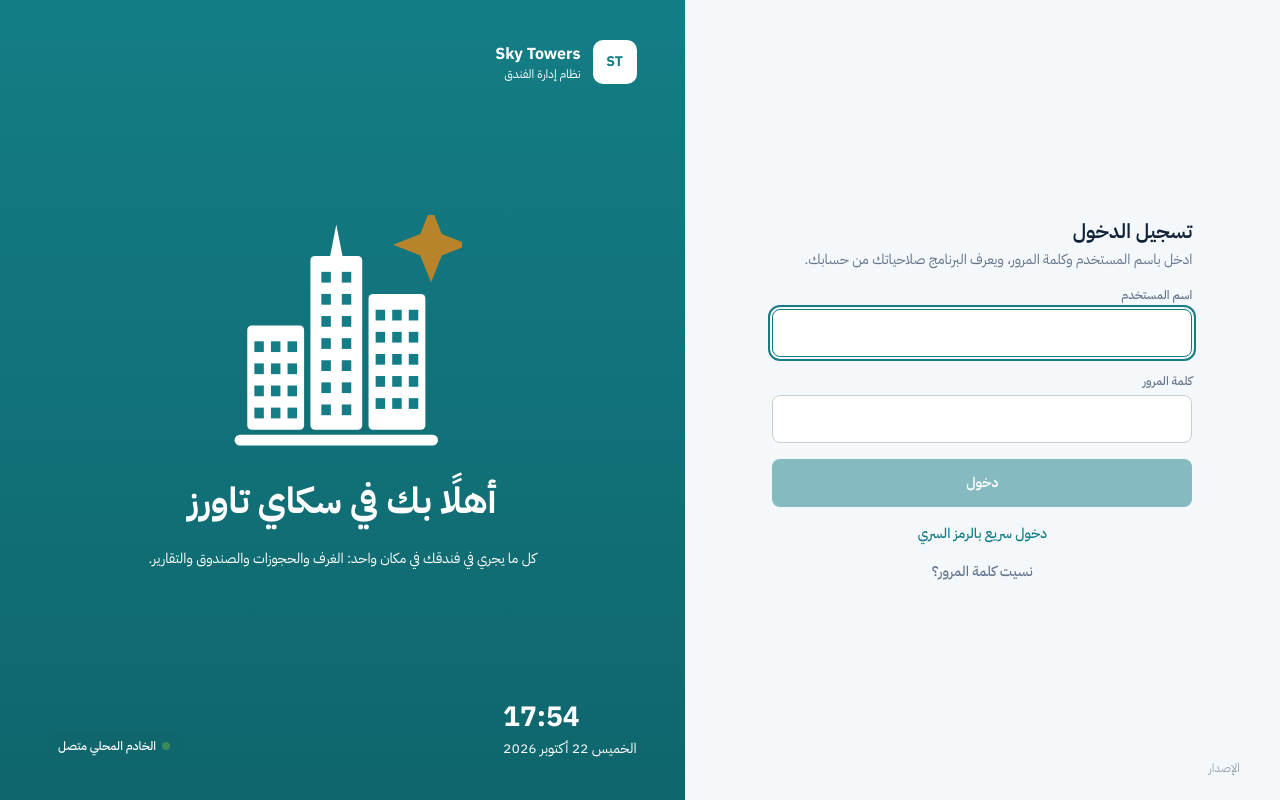
«دخول سريع» switches to the PIN pad and back
Click the button "دخول سريع بالرمز السري".
click(982, 534)  # box [772,523,1192,545]
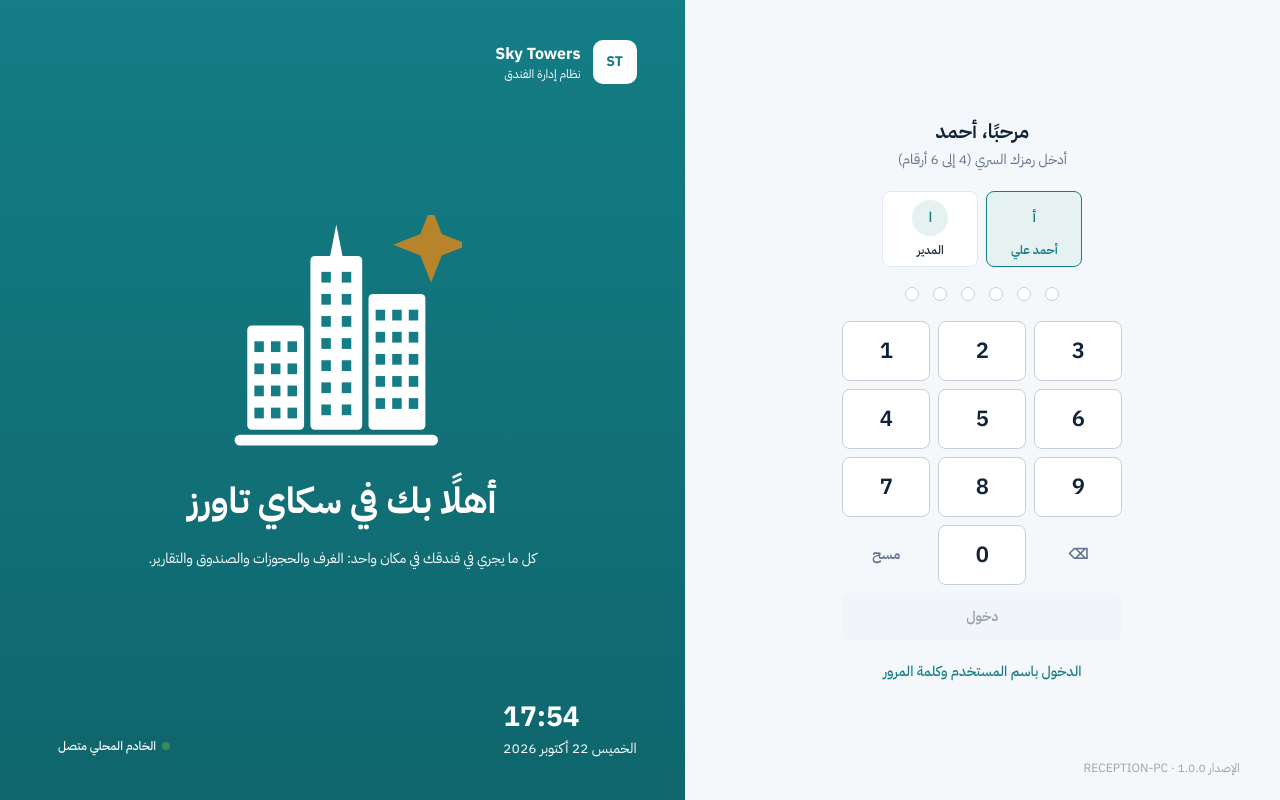
Now the heading "مرحبًا، أحمد" is shown, box [936,117,1029,145]
Click the button "الدخول باسم المستخدم وكلمة المرور".
click(982, 672)  # box [883,661,1082,683]
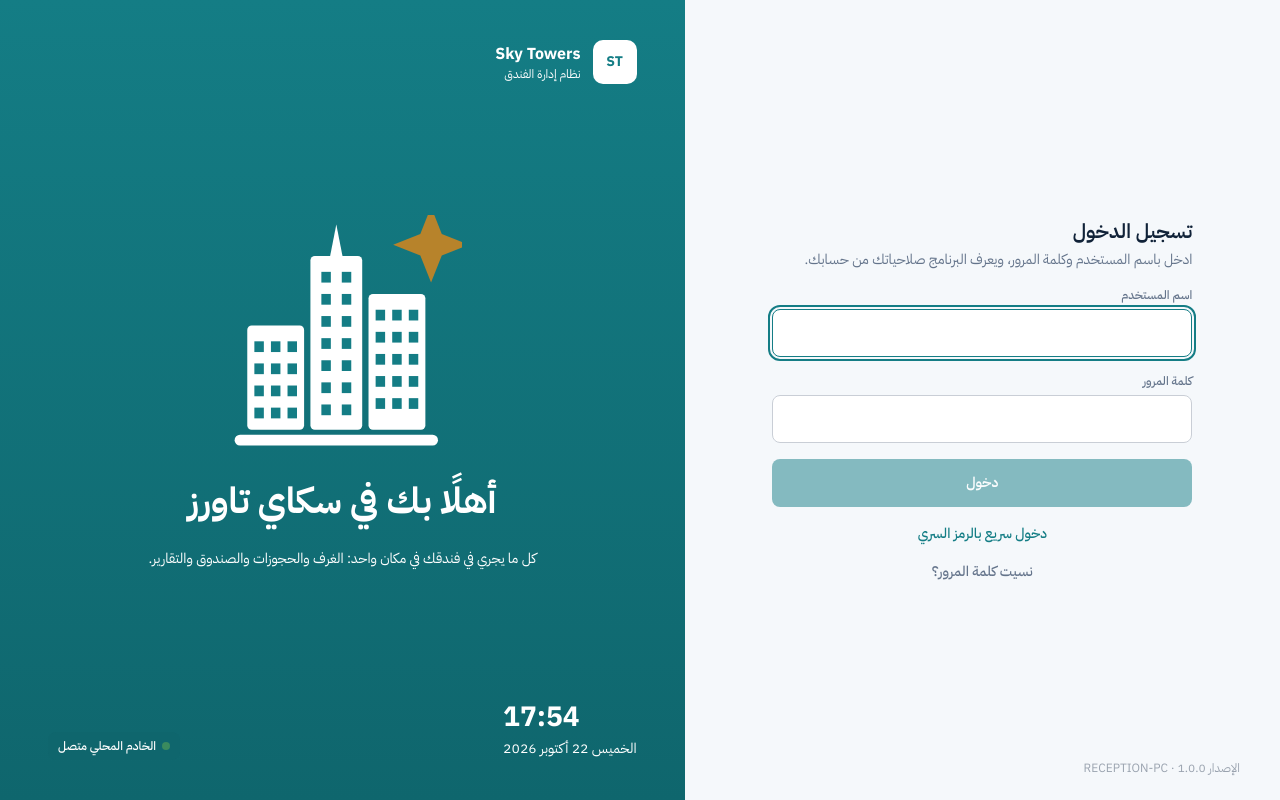
Now the heading "تسجيل الدخول" is shown, box [1073,216,1192,246]
